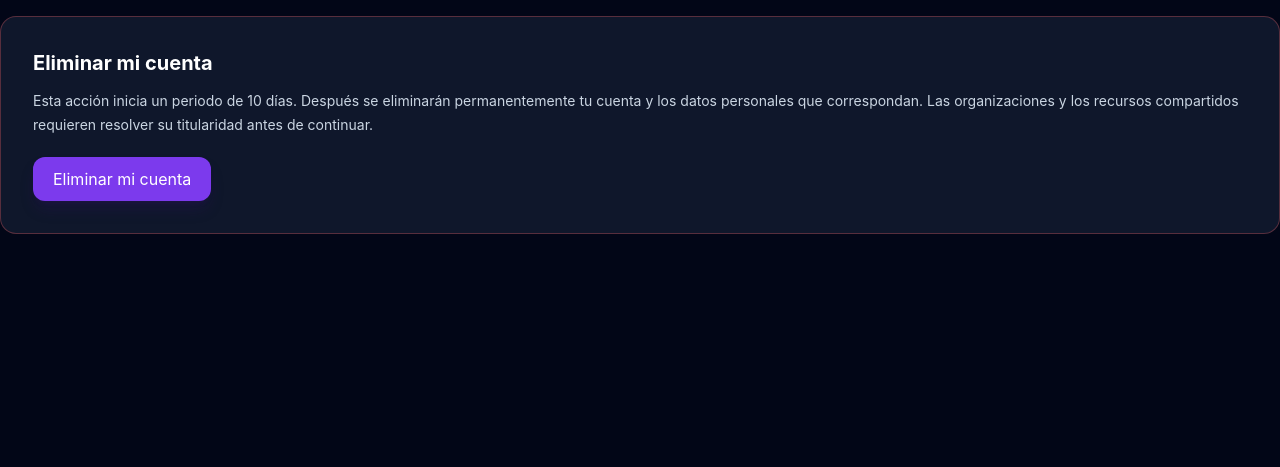
Test: requires an explicit phrase and current password before sending deletion
The image size is (1280, 467).
Later steps or results of the test are not shown.
Step 1. Click the button "Eliminar mi cuenta" → (122, 179), box [33,157,211,201]
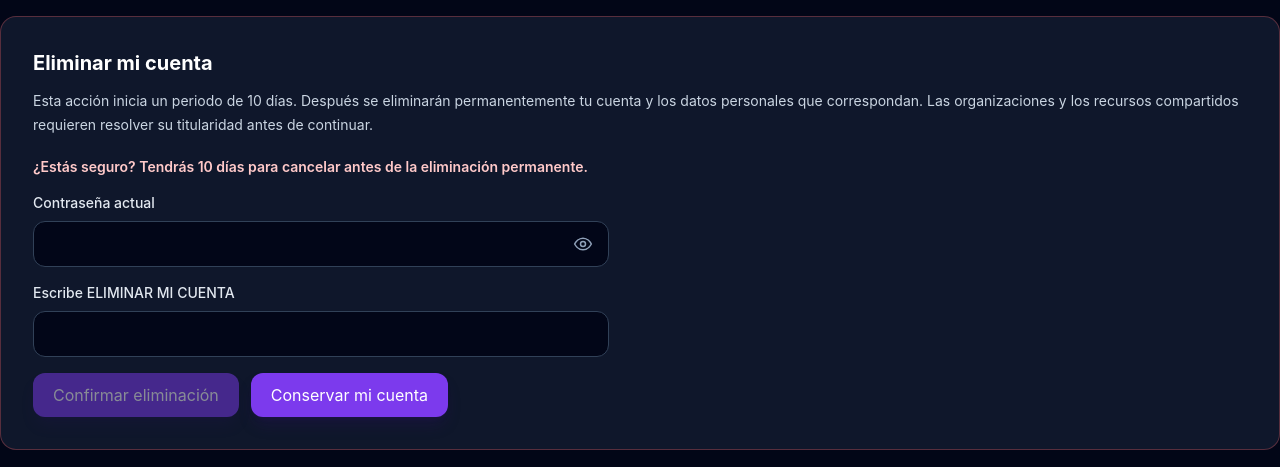
Expected: the button "Confirmar eliminación" is disabled, [33,373,239,417]
